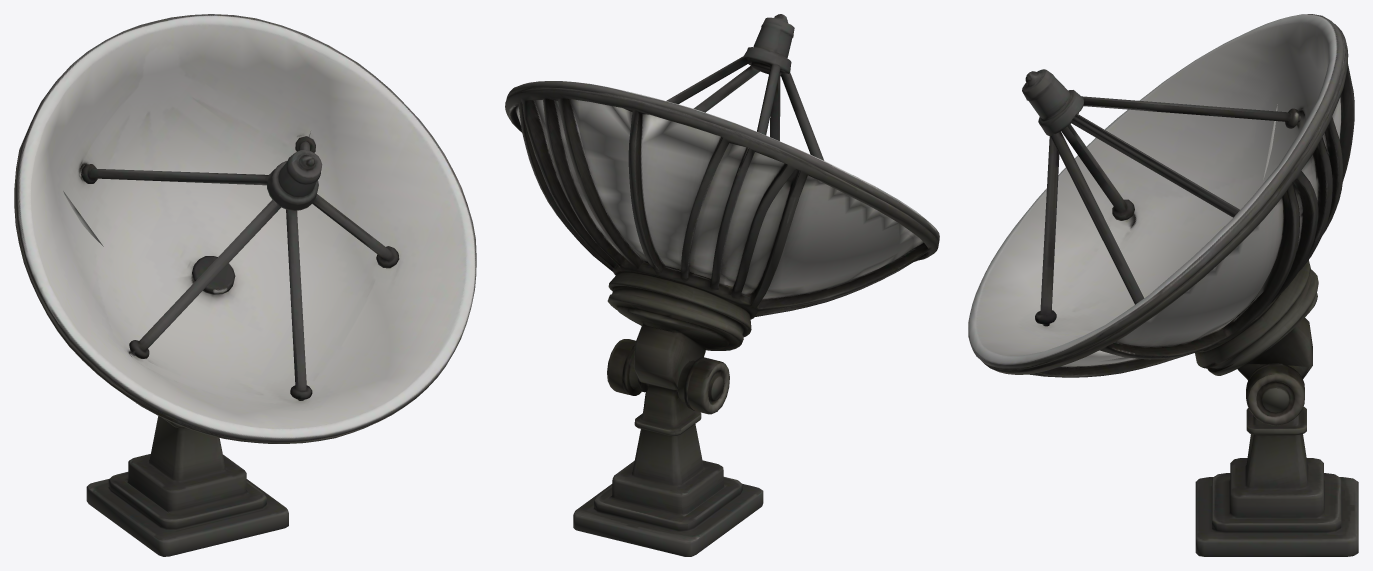
The model's file is a_satellite_dish_2dae6111_v1.glb.
The picture shows the model from 3 angles, left to right: view 1: azimuth 30°, elevation 25°; view 2: azimuth 150°, elevation 25°; view 3: azimuth 270°, elevation 25°; orthographic projection. The views are drawn at different scales.
Parts seen in each view (by area): view 1: material; view 2: material; view 3: material.
Part boxes in pixels (bbox=[...]): material: bbox=[14, 14, 476, 556]; material: bbox=[505, 14, 939, 556]; material: bbox=[968, 14, 1358, 556].
Bounding box in the file's own units: 1.79 × 1.9 × 1.41.
Materials: 1 (1 with a texture image).
